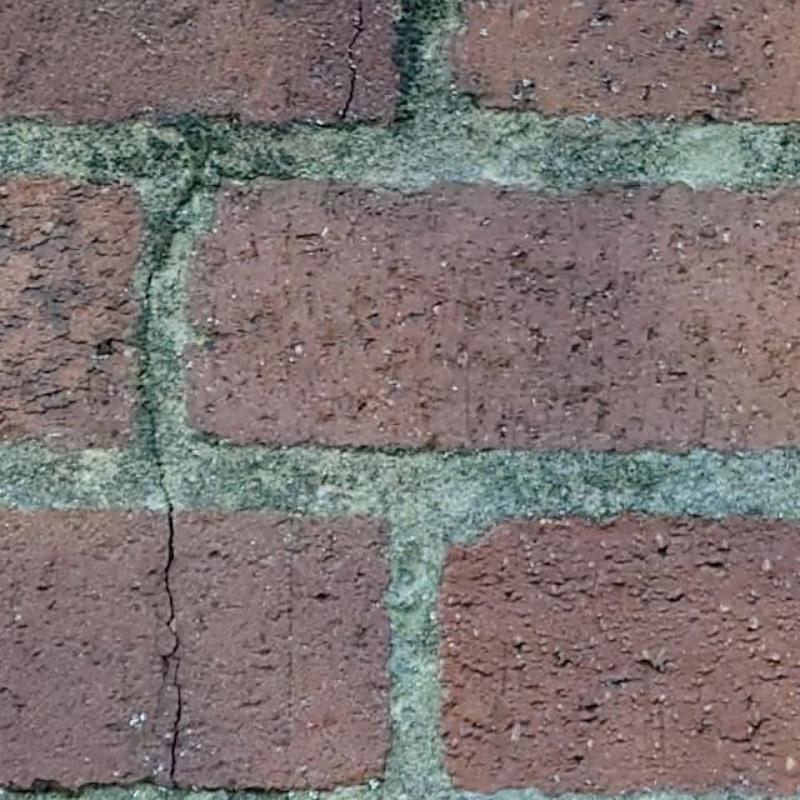pothole: (135, 180, 199, 443), (147, 446, 184, 781), (332, 4, 368, 120)
